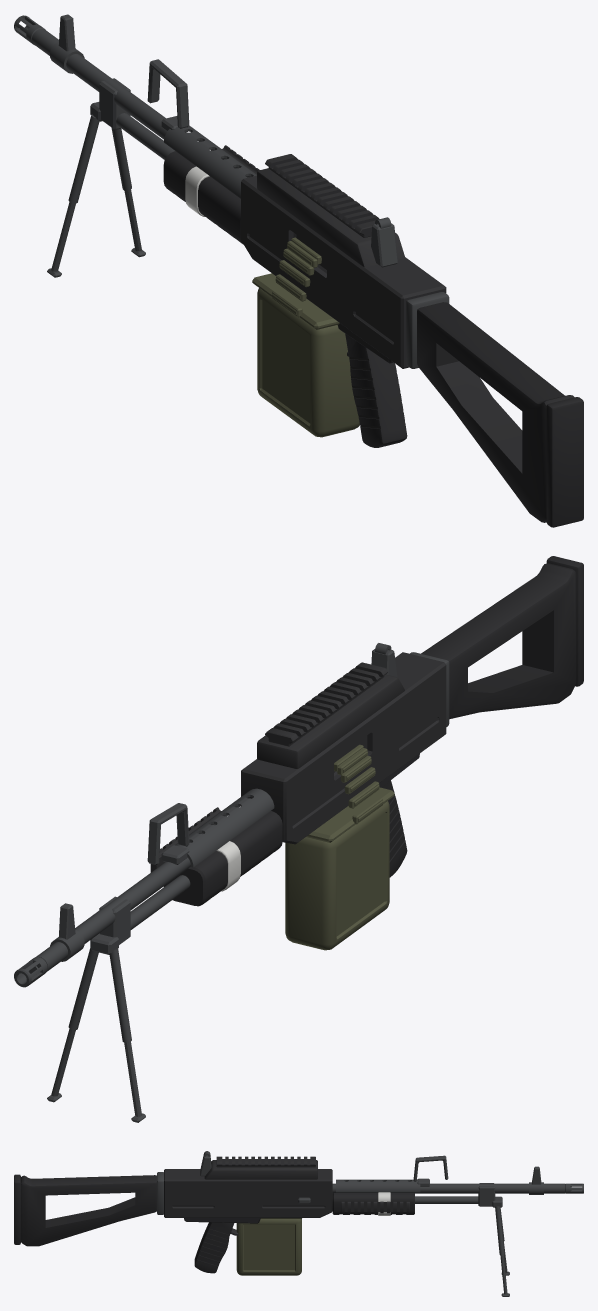
The picture shows the model from 3 angles, top to bottom: view 1: azimuth 30°, elevation 25°; view 2: azimuth 150°, elevation 25°; view 3: azimuth 270°, elevation 25°; orthographic projection. The views are drawn at different scales.
Visible parts, largest first — view 1: Furniture, Body, Metal, Mag; view 2: Body, Furniture, Metal, Mag; view 3: Body, Furniture, Metal, Mag.
Boxes of the visible parts, left/top/right/bottom form: Furniture: left=163, top=151, right=583, bottom=527; Body: left=222, top=145, right=446, bottom=368; Metal: left=14, top=14, right=449, bottom=368; Mag: left=252, top=237, right=359, bottom=437; Body: left=150, top=652, right=446, bottom=872; Furniture: left=163, top=556, right=583, bottom=906; Metal: left=14, top=643, right=449, bottom=1122; Mag: left=285, top=744, right=394, bottom=950; Body: left=164, top=1156, right=409, bottom=1235; Furniture: left=14, top=1174, right=414, bottom=1273; Metal: left=157, top=1151, right=583, bottom=1296; Mag: left=236, top=1218, right=301, bottom=1275.
Size of the model in its own units: 0.53 by 1.39 by 5.4.
